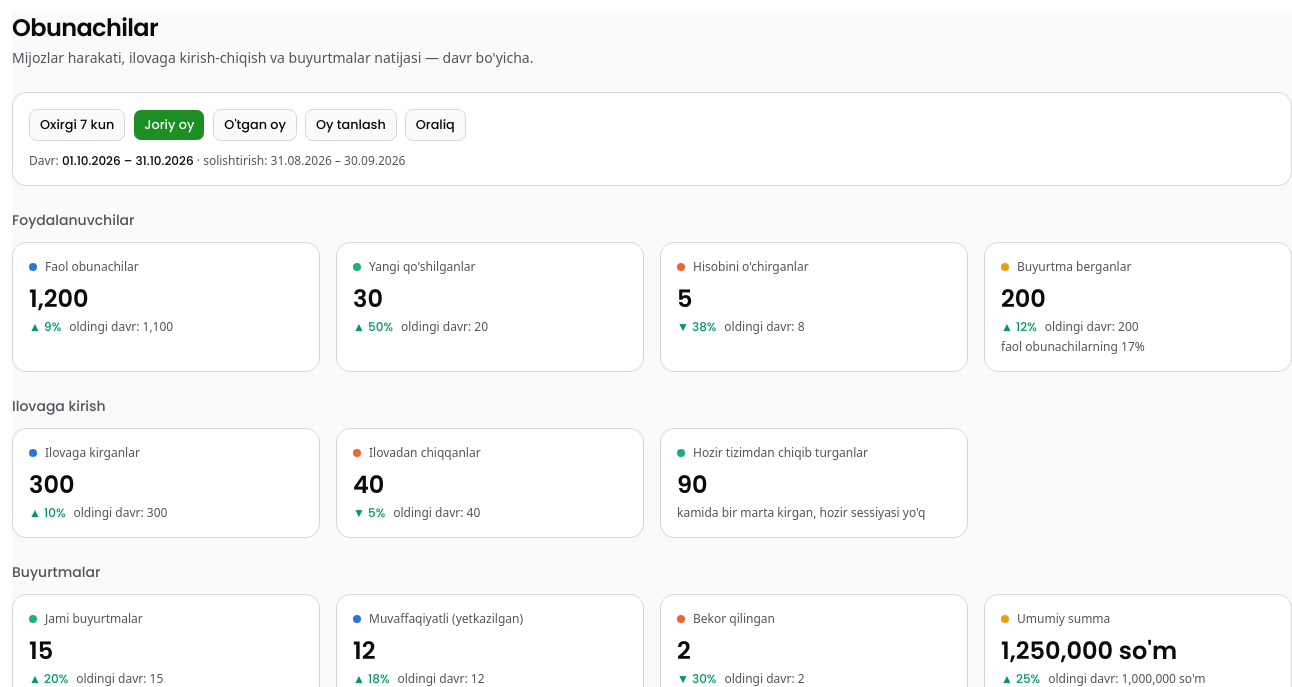
Test: SubscribersClient › loads a custom range and refuses an invalid one without fetching
The image size is (1292, 687).
expect the text "Faol obunachilar" is shown: met, box 45,259 -> 139,275
Step 1. Click the tab "Oraliq" → (435, 125), box 405,109 -> 466,141
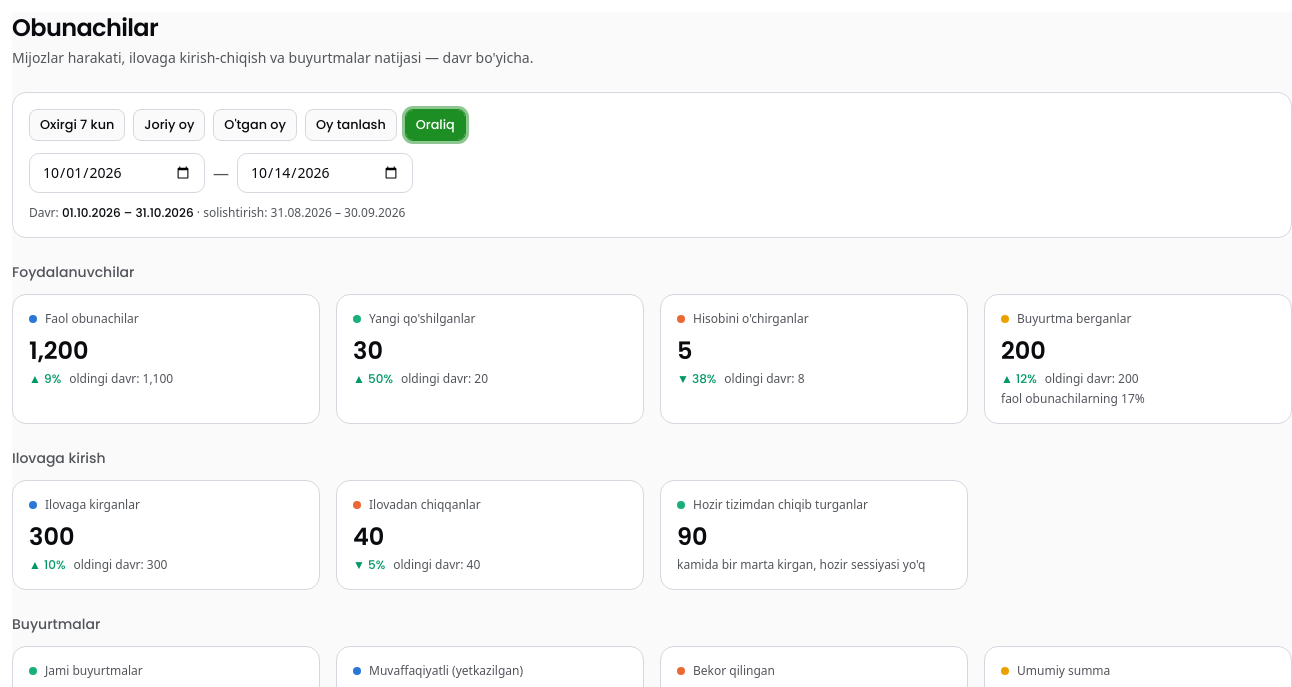
Step 2. Type "2026-10-05" into the date field named "Boshlanish sanasi" → (117, 173), box 29,153 -> 205,193
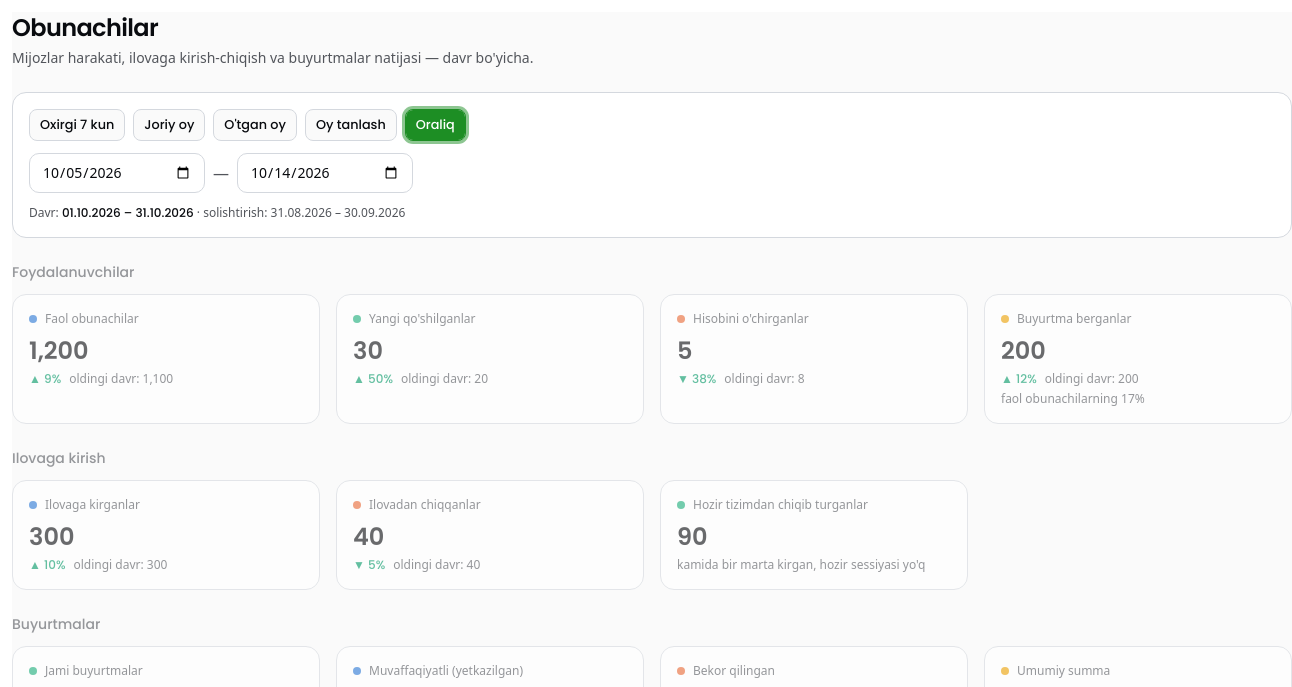
Step 3. Type "2026-10-09" into the date field named "Tugash sanasi" → (325, 173), box 237,153 -> 413,193
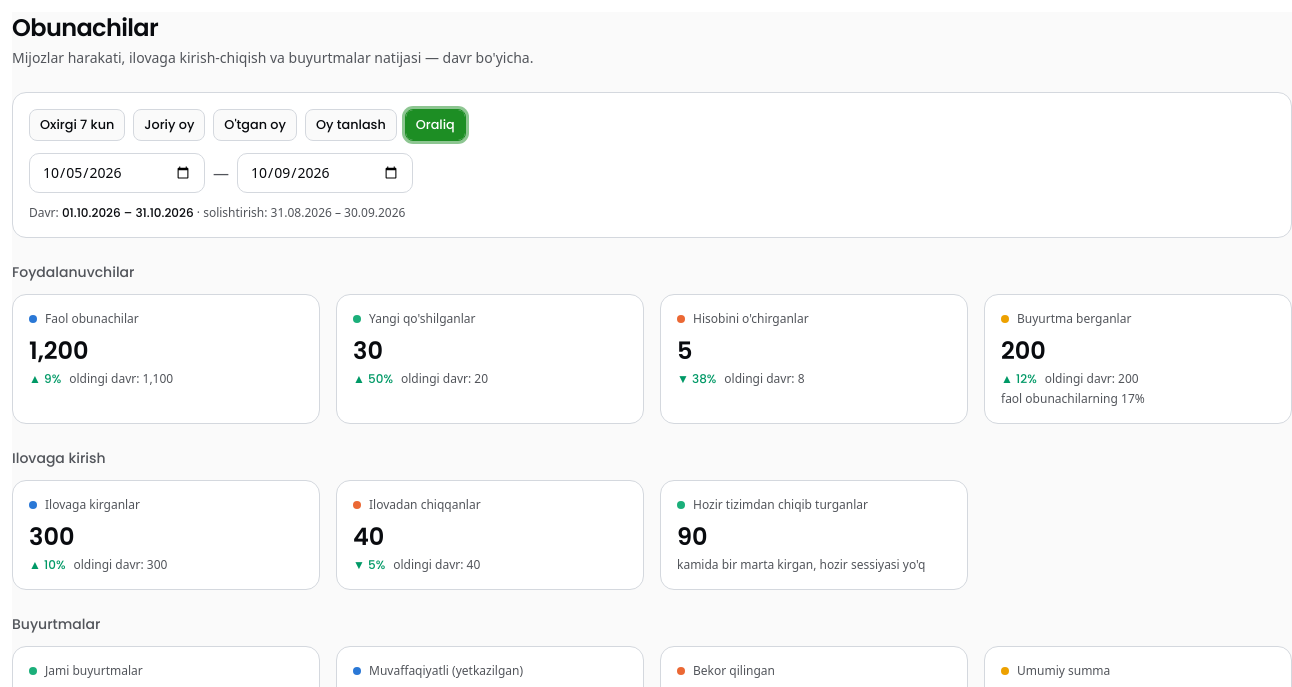
Step 4. Type "2026-10-01" into the date field named "Tugash sanasi" → (325, 173), box 237,153 -> 413,193
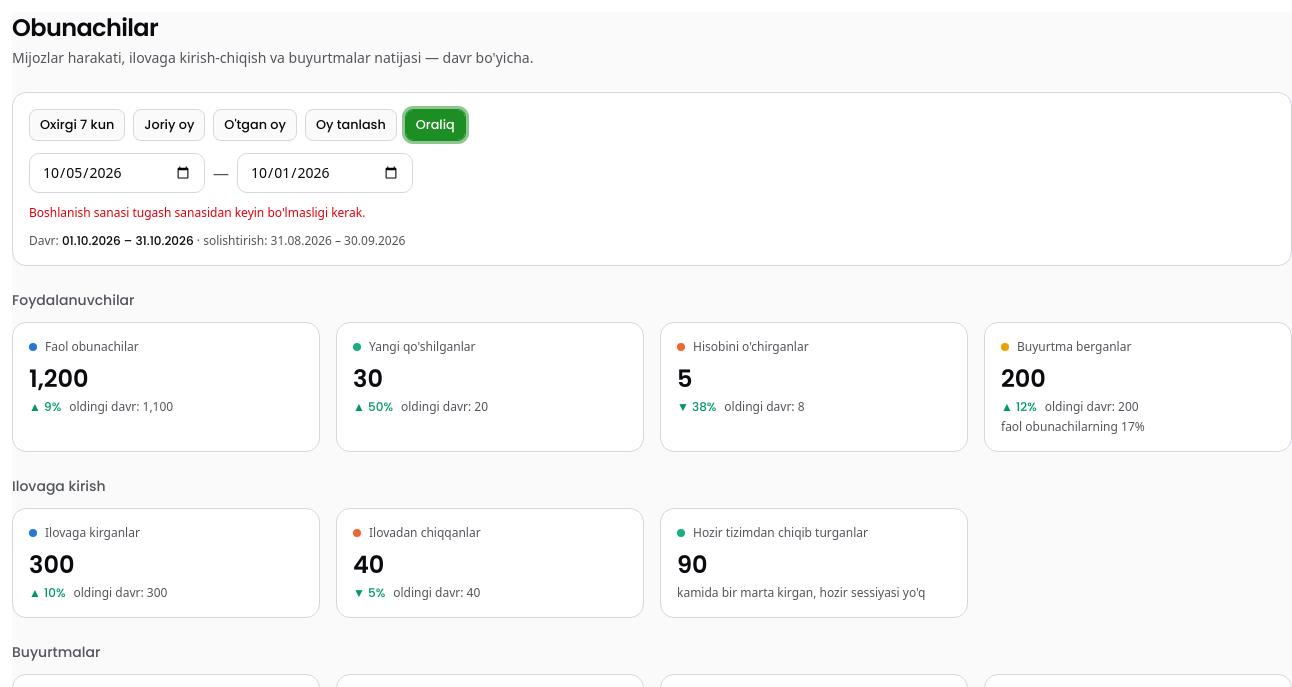
expect the text "Boshlanish sanasi tugash sanasidan keyin bo'lmasligi kerak." is shown: met, box 29,204 -> 366,221
